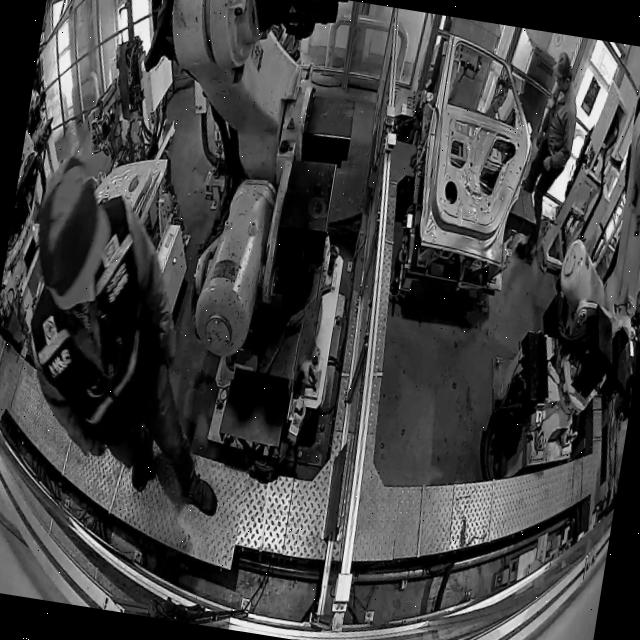Person: (0, 150, 269, 519), (510, 48, 587, 269)
